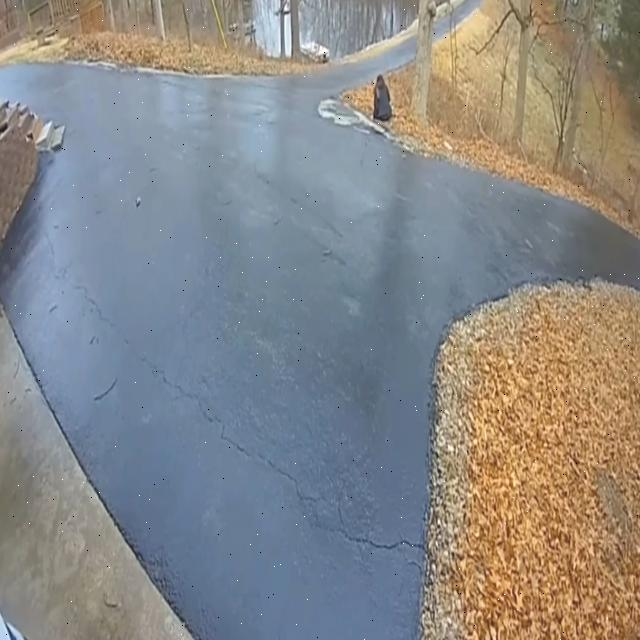fallen: (372, 74, 392, 122)
